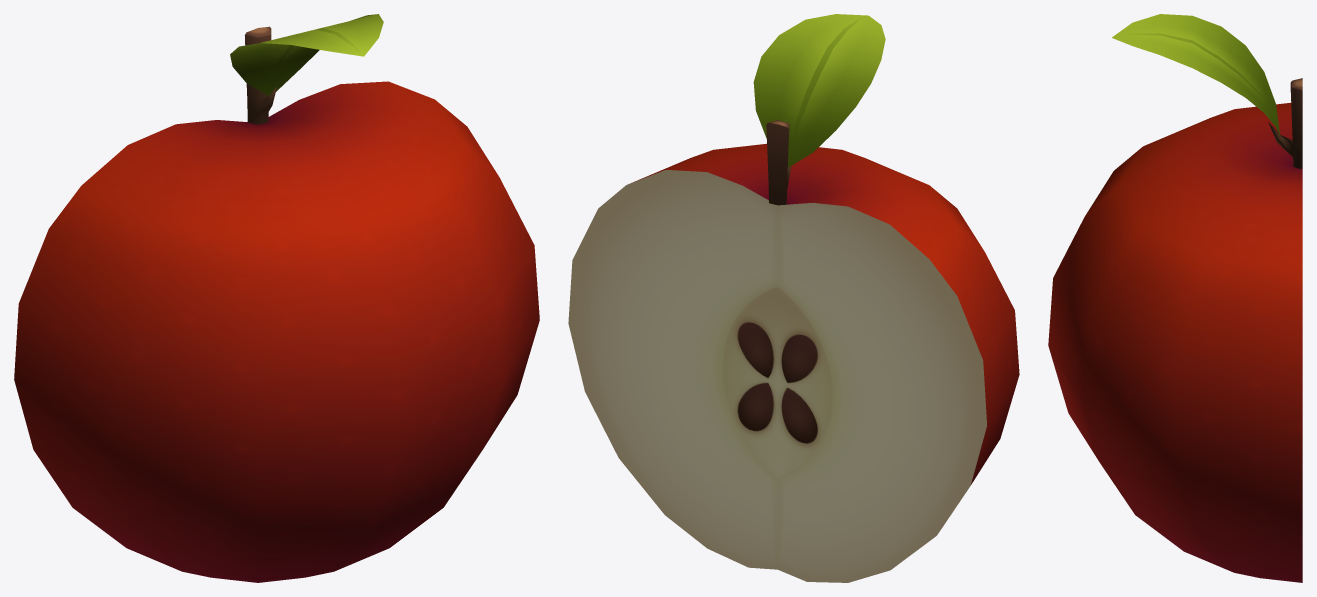
File: Apple_R_Half_Back.fbx
3 renders of one model, left to right at view 1: azimuth 30°, elevation 25°; view 2: azimuth 150°, elevation 25°; view 3: azimuth 270°, elevation 25°, orthographic. The views are drawn at different scales.
Parts seen in each view (by area): view 1: Apple_R_Half_Back; view 2: Apple_R_Half_Back; view 3: Apple_R_Half_Back.
Part boxes in pixels (x1,y1,x2,y2): Apple_R_Half_Back: (14, 14, 539, 582); Apple_R_Half_Back: (568, 14, 1019, 582); Apple_R_Half_Back: (1048, 14, 1302, 582).
Size of the model in its own units: 1.66 by 1.88 by 0.8299.
